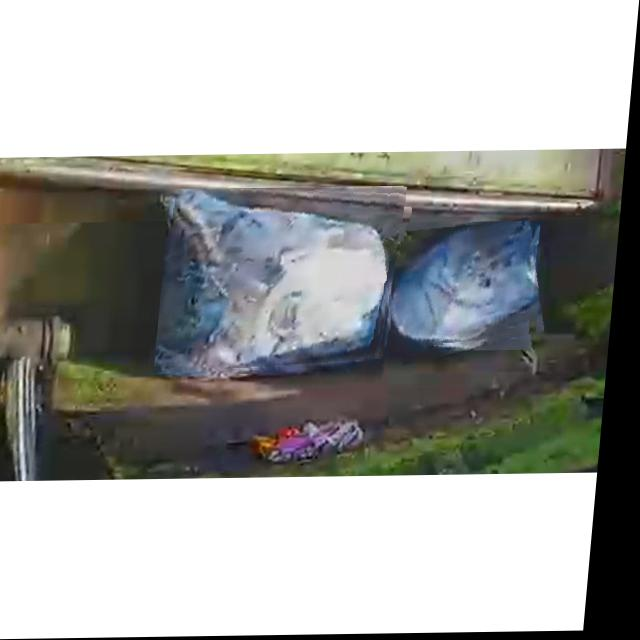other_trashbag: (162, 191, 402, 370), (399, 224, 546, 345)
